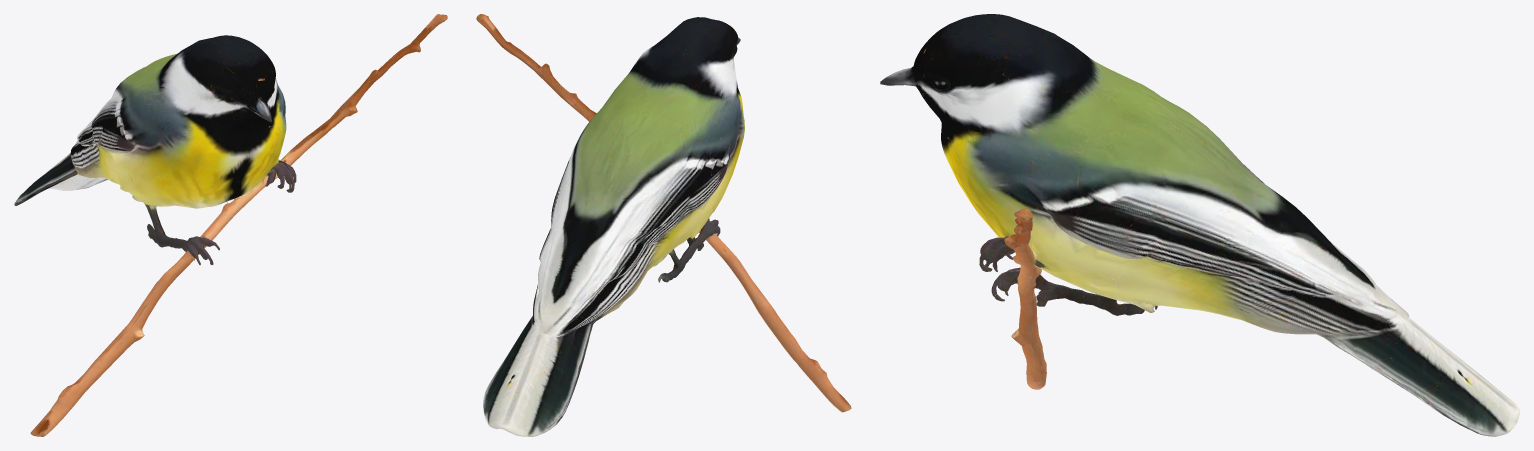
File: bird-koolmees.glb
3 renders of one model, left to right at view 1: azimuth 30°, elevation 25°; view 2: azimuth 150°, elevation 25°; view 3: azimuth 270°, elevation 25°, orthographic. The views are drawn at different scales.
Bounding box in the file's own units: 1.85 × 1.58 × 1.91.
Materials: 1 (1 with a texture image).
